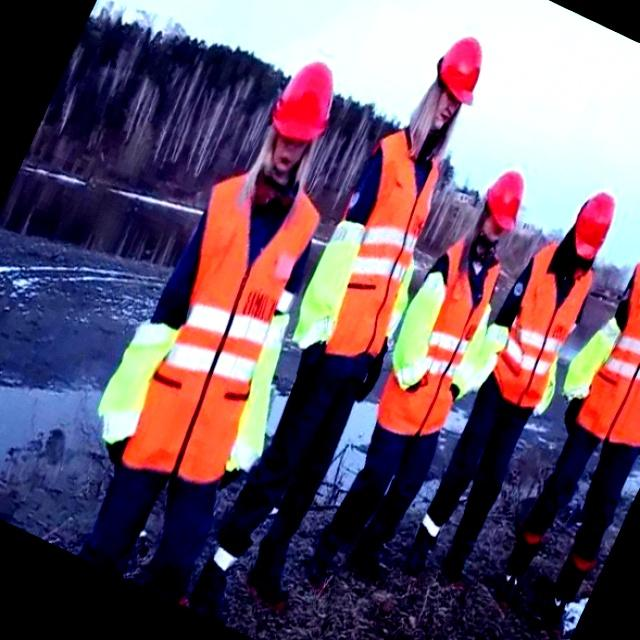helmet: (266, 52, 336, 146), (426, 27, 496, 118), (482, 156, 532, 242), (568, 186, 618, 270)
safety_vest: (123, 174, 306, 481), (322, 133, 430, 379), (394, 251, 494, 438), (504, 242, 590, 422)
